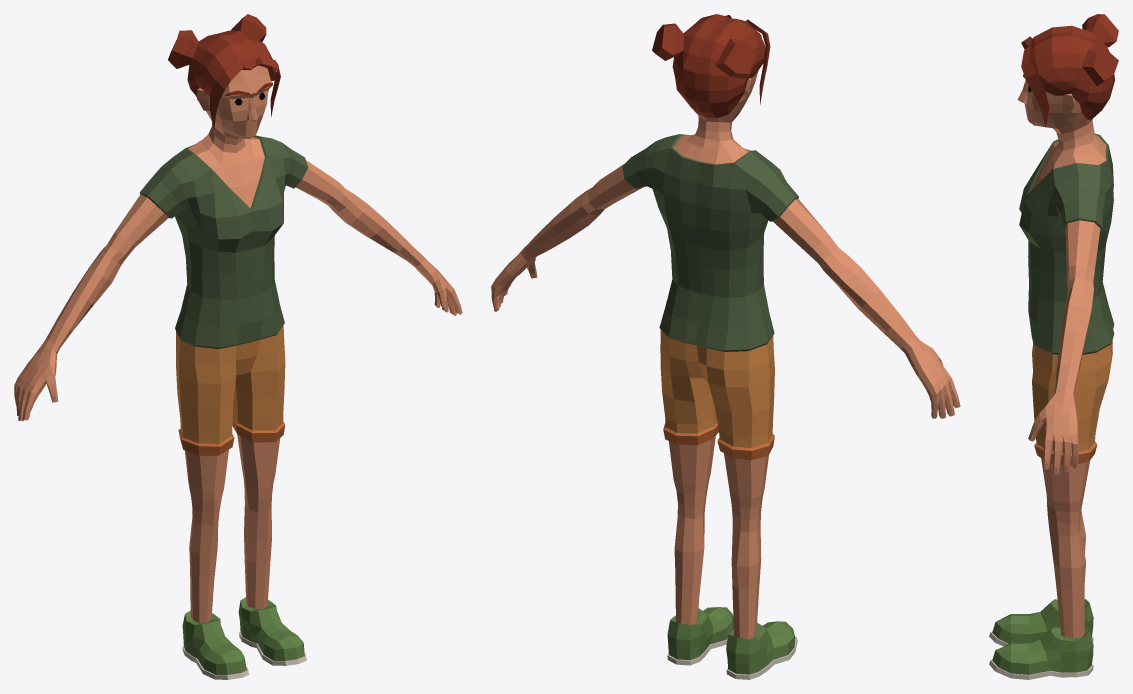
Rendered from PolyArt_Female_04.obj.
The picture shows the model from 3 angles, left to right: view 1: azimuth 30°, elevation 25°; view 2: azimuth 150°, elevation 25°; view 3: azimuth 270°, elevation 25°; orthographic projection. The views are drawn at different scales.
Parts seen in each view (by area): view 1: Body_04_Cube.019; view 2: Body_04_Cube.019; view 3: Body_04_Cube.019.
Part boxes in pixels (x1,y1,x2,y2): Body_04_Cube.019: (14, 14, 462, 679); Body_04_Cube.019: (491, 14, 960, 679); Body_04_Cube.019: (989, 14, 1118, 679).
Bounding box in the file's own units: 1.48 × 1.97 × 0.3713.
